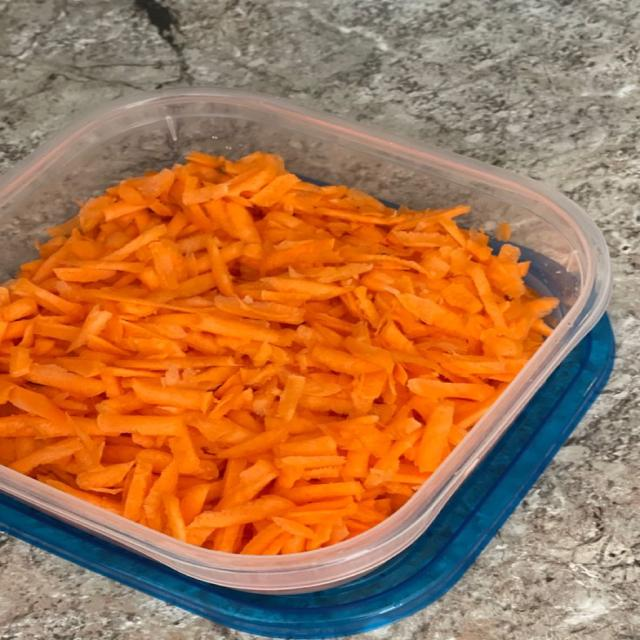carrot: (0, 153, 557, 554)
